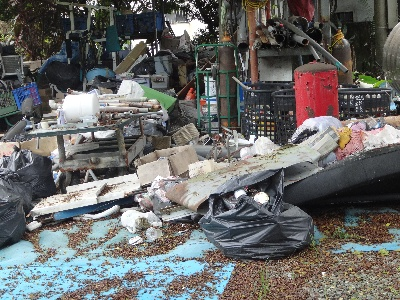bucket: (63, 93, 103, 123)
plastic_bag: (201, 167, 316, 260), (1, 146, 59, 198)
